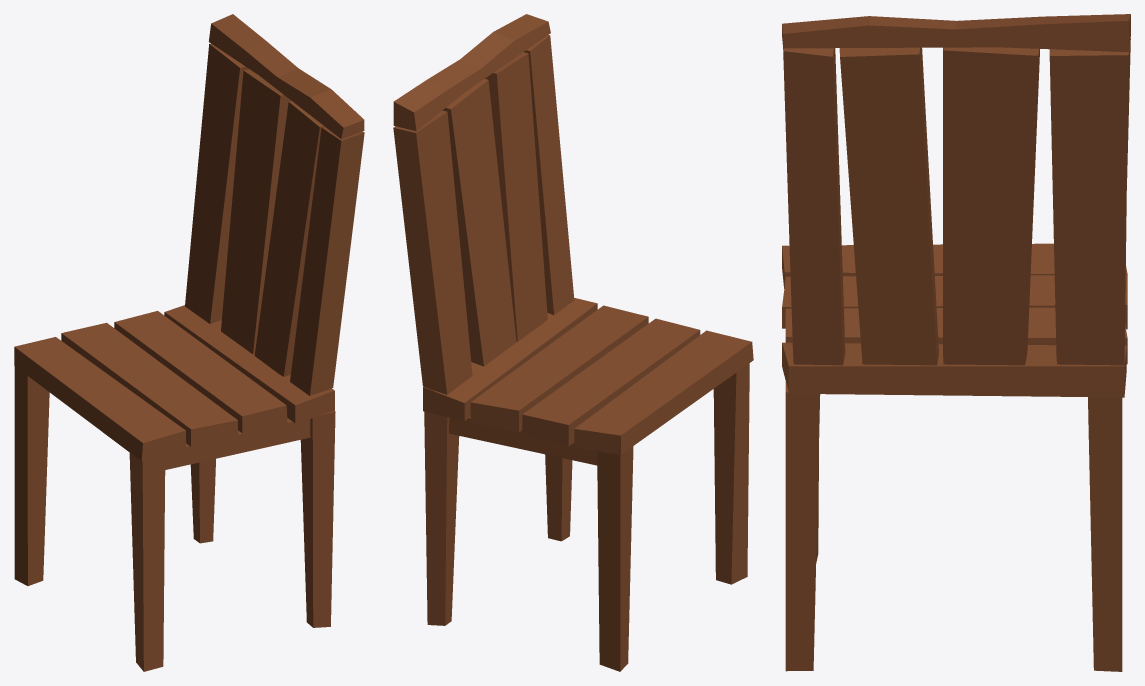
The model's file is chairwoodsimple01.obj.
3 views of the same model, side by side, from view 1: azimuth 30°, elevation 25°; view 2: azimuth 150°, elevation 25°; view 3: azimuth 270°, elevation 25° (orthographic). The views are drawn at different scales.
Visible parts, largest first — view 1: Cube_Cube.001; view 2: Cube_Cube.001; view 3: Cube_Cube.001.
Part boxes in pixels (bbox=[...]): Cube_Cube.001: bbox=[14, 14, 364, 671]; Cube_Cube.001: bbox=[393, 14, 753, 671]; Cube_Cube.001: bbox=[782, 14, 1130, 671].
Size of the model in its own units: 0.4918 by 1.07 by 0.5047.
